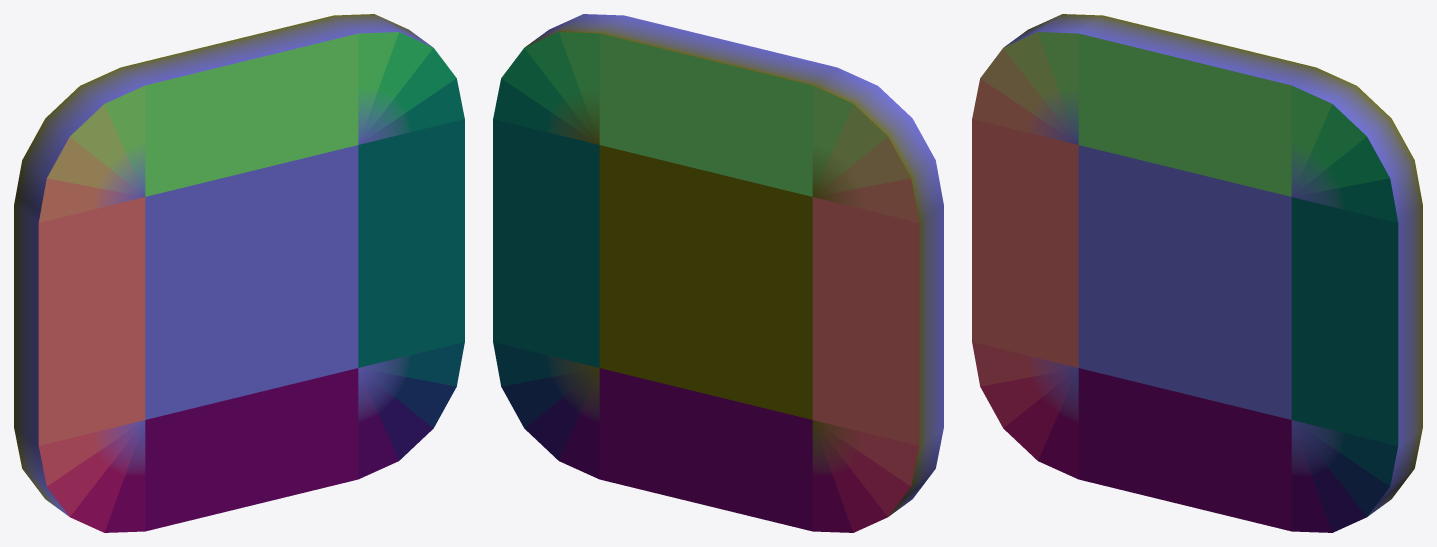
The model's file is thick_4x4.fbx.
3 renders of one model, left to right at view 1: azimuth 30°, elevation 25°; view 2: azimuth 150°, elevation 25°; view 3: azimuth 330°, elevation 25°, orthographic.
Visible parts, largest first — view 1: beveled_edge; view 2: beveled_edge; view 3: beveled_edge.
Part boxes in pixels (x1=…): beveled_edge: x1=14, y1=14, x2=464, y2=532; beveled_edge: x1=493, y1=14, x2=943, y2=532; beveled_edge: x1=972, y1=14, x2=1422, y2=532.
Size of the model in its own units: 1 by 1 by 0.1.
